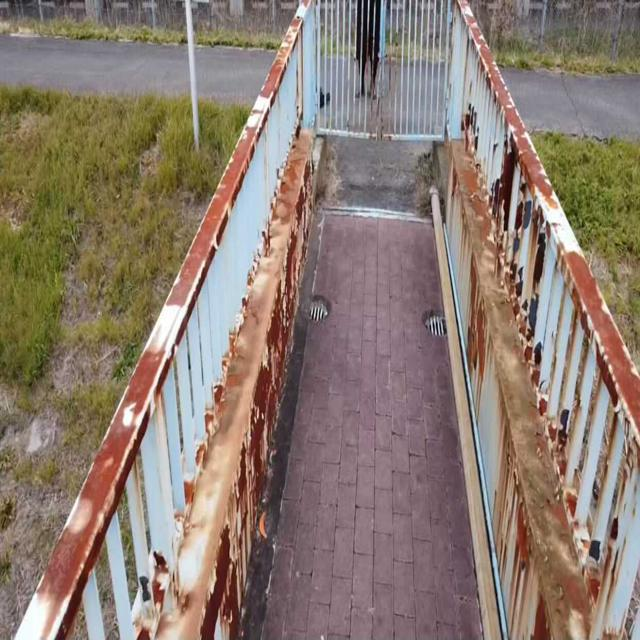corrosion: (36, 70, 323, 640), (448, 134, 640, 639)
